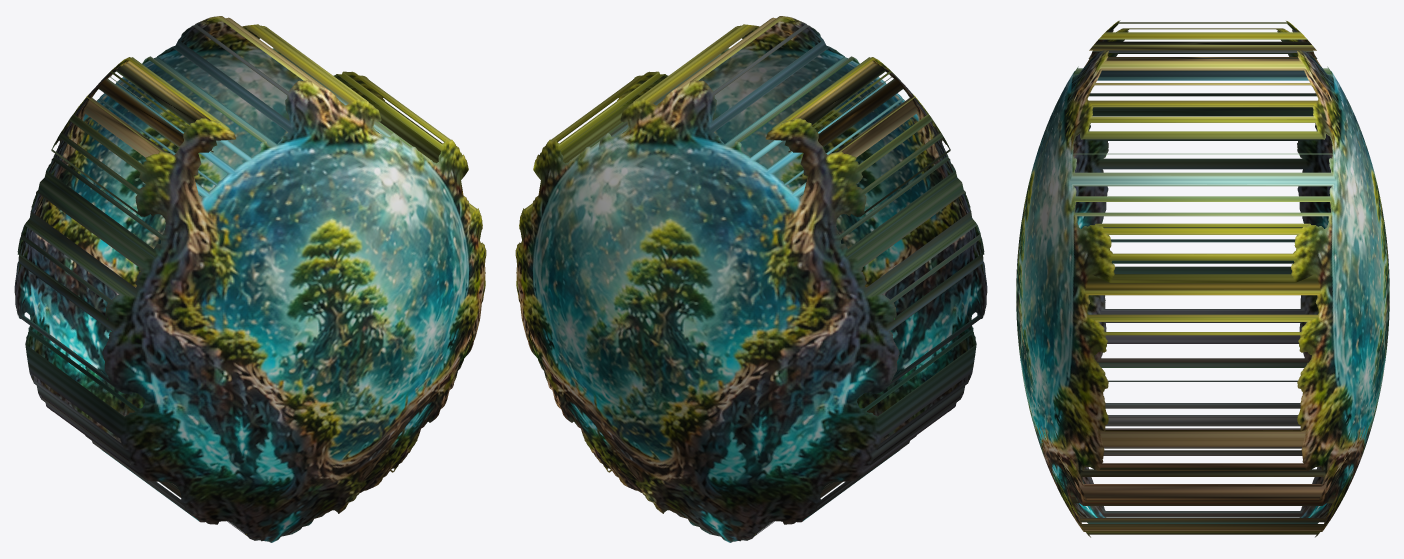
3 views of the same model, side by side, from view 1: azimuth 30°, elevation 25°; view 2: azimuth 150°, elevation 25°; view 3: azimuth 270°, elevation 25° (orthographic). The views are drawn at different scales.
Parts seen in each view (by area): view 1: planets:7; view 2: planets:7; view 3: planets:7.
Boxes of the visible parts, bbox=[...] form: planets:7: bbox=[14, 16, 486, 542]; planets:7: bbox=[515, 16, 987, 542]; planets:7: bbox=[1016, 20, 1389, 537].
Bounding box in the file's own units: 0.8472 × 0.963 × 0.66.
Materials: 1 (1 with a texture image).
